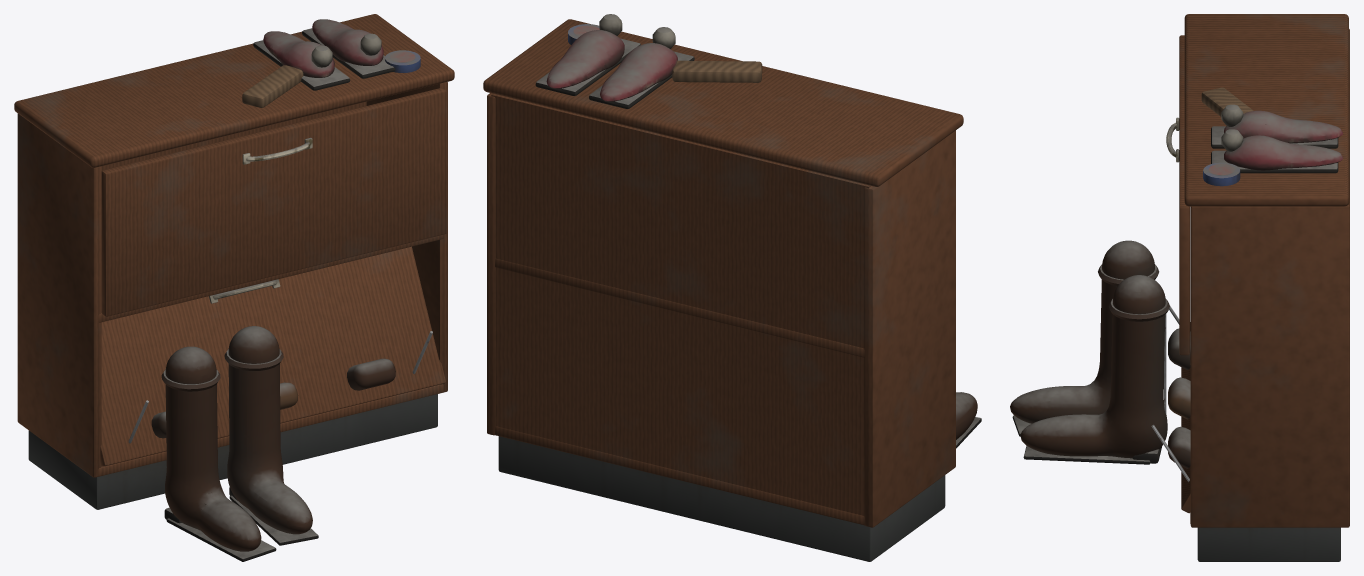
Rendered from SM_ShoeCabinet.fbx.
3 views of the same model, side by side, from view 1: azimuth 30°, elevation 25°; view 2: azimuth 150°, elevation 25°; view 3: azimuth 270°, elevation 25° (orthographic). The views are drawn at different scales.
Parts seen in each view (by area): view 1: SM_ShoeCabinet; view 2: SM_ShoeCabinet; view 3: SM_ShoeCabinet.
Part boxes in pixels (<box>): SM_ShoeCabinet: <box>14,14,454,561</box>; SM_ShoeCabinet: <box>483,14,981,561</box>; SM_ShoeCabinet: <box>1010,14,1349,561</box>.
Bounding box in the file's own units: 0.82 × 0.8555 × 0.6408.
Materials: 1 (1 with a texture image).
